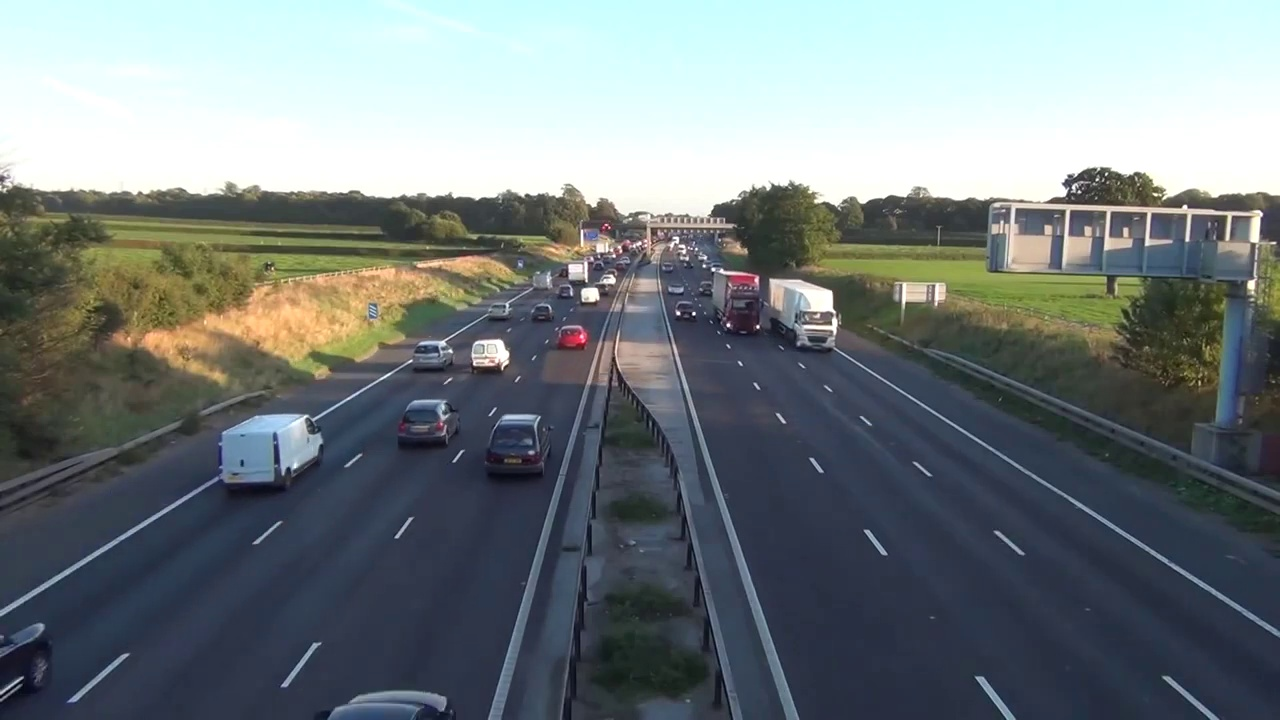bus: (484, 414, 555, 481), (396, 398, 462, 446), (413, 339, 454, 370), (556, 325, 588, 349), (673, 300, 696, 320), (487, 303, 512, 318), (530, 304, 553, 320), (698, 280, 713, 296), (556, 284, 573, 298), (667, 282, 684, 294)
car: (568, 261, 588, 284)
lorry: (216, 414, 324, 488), (471, 339, 510, 373), (579, 287, 600, 304)
